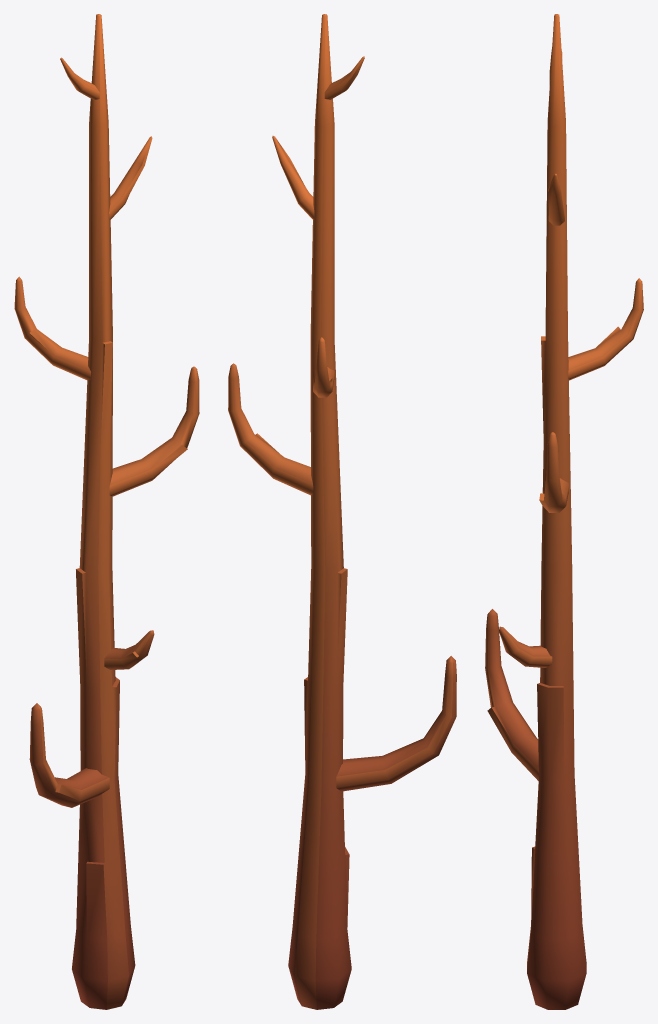
File: Tree_Bare_2_C_Color1.glb
3 renders of one model, left to right at view 1: azimuth 30°, elevation 25°; view 2: azimuth 150°, elevation 25°; view 3: azimuth 270°, elevation 25°, orthographic.
Parts seen in each view (by area): view 1: Tree_Bare_2_C_Color1; view 2: Tree_Bare_2_C_Color1; view 3: Tree_Bare_2_C_Color1.
Boxes of the visible parts, x1,y1,x2,y2 form: Tree_Bare_2_C_Color1: [14, 14, 199, 1009]; Tree_Bare_2_C_Color1: [228, 14, 456, 1009]; Tree_Bare_2_C_Color1: [485, 14, 643, 1009].
Bounding box in the file's own units: 1.58 × 7.61 × 1.1.
1 material, 1 textured.
